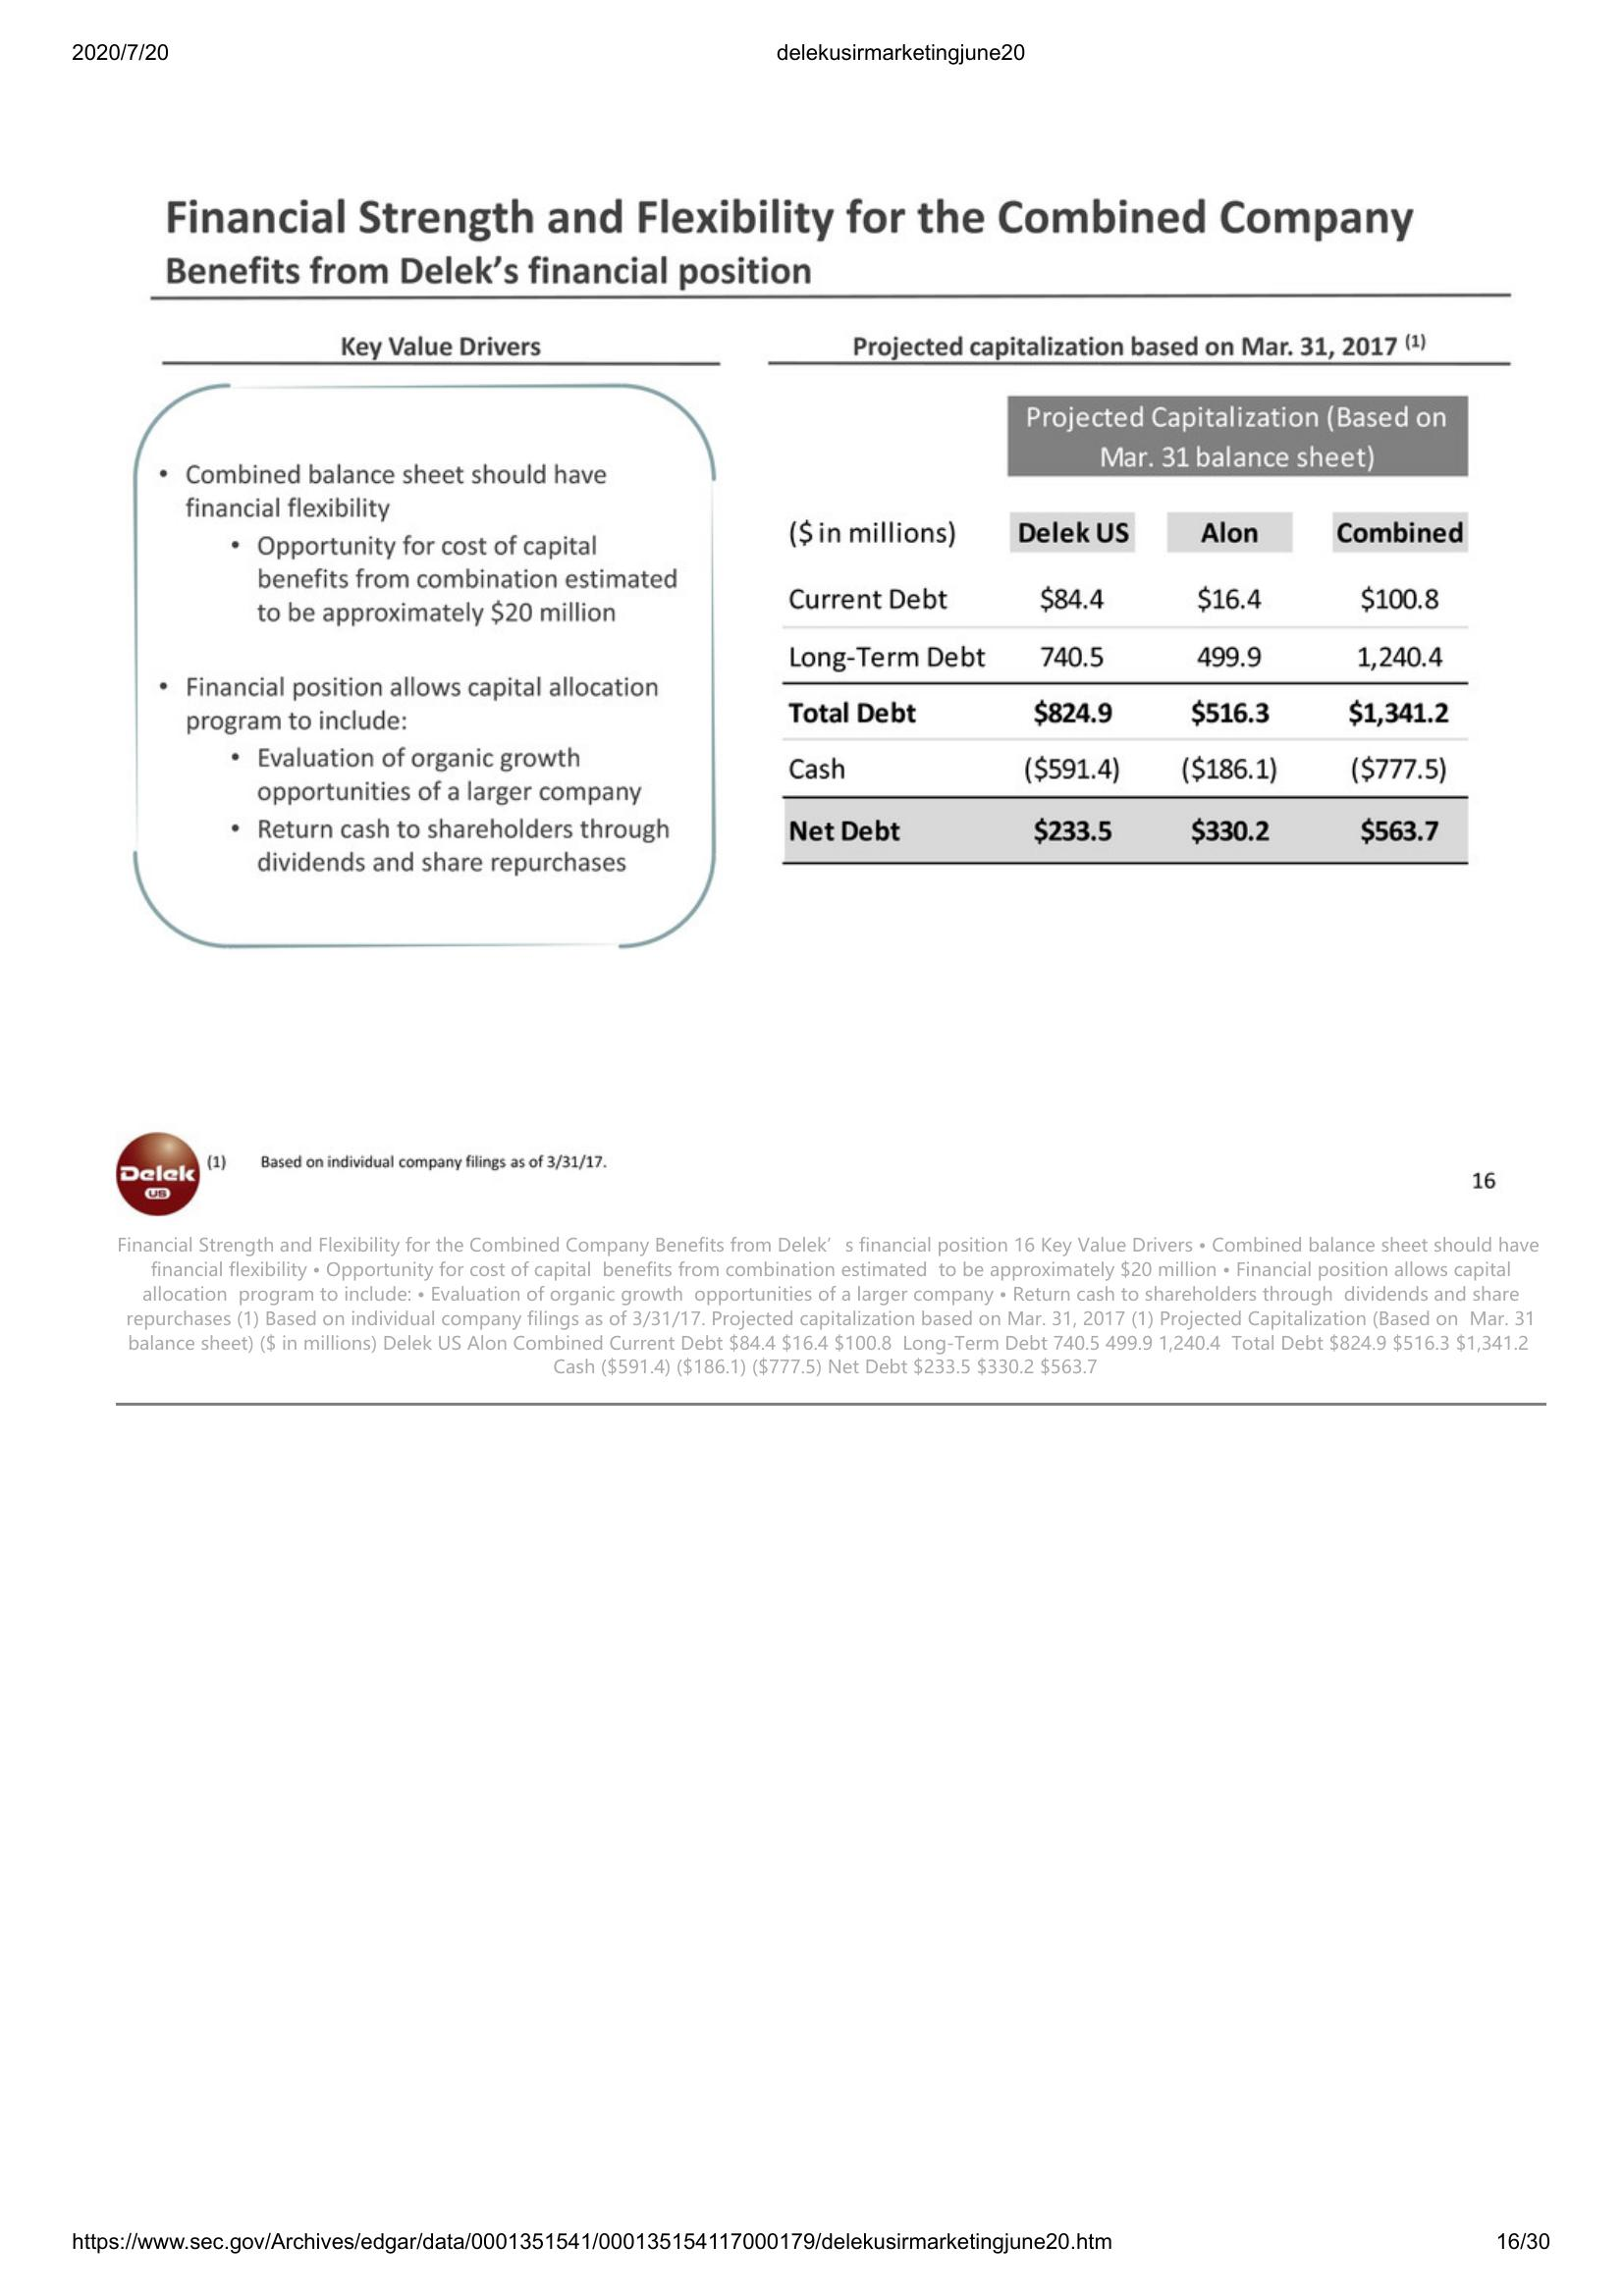table: (773, 502, 1475, 872)
